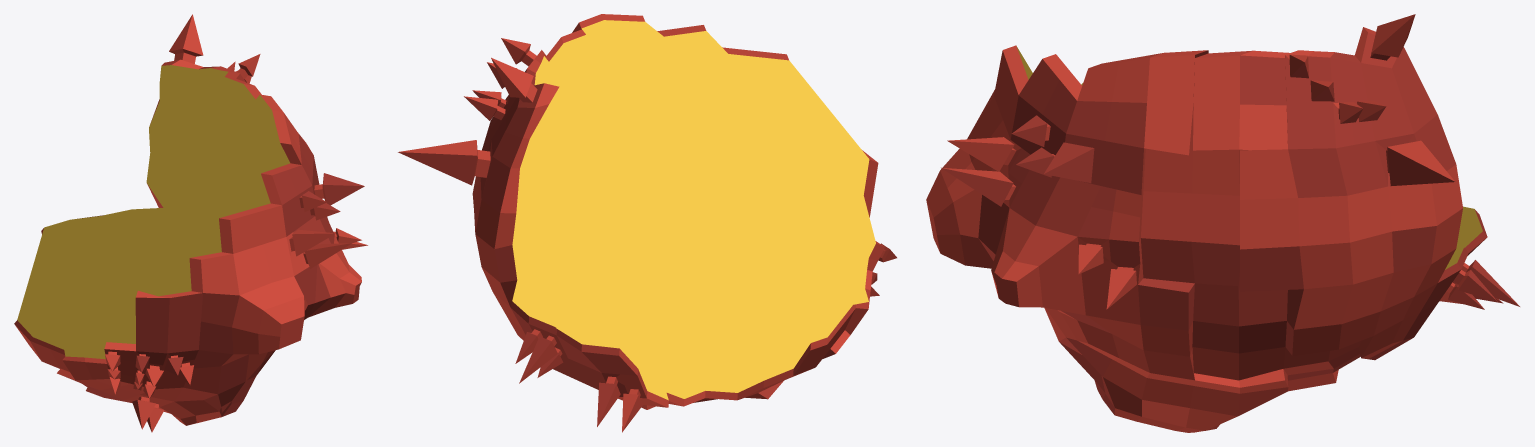
The model's file is Boom2.fbx.
3 renders of one model, left to right at view 1: azimuth 30°, elevation 25°; view 2: azimuth 150°, elevation 25°; view 3: azimuth 270°, elevation 25°, orthographic. The views are drawn at different scales.
Parts seen in each view (by area): view 1: Boom.001; view 2: Boom.001; view 3: Boom.001.
Part boxes in pixels (x1,y1,x2,y2): Boom.001: (14, 14, 367, 432); Boom.001: (398, 14, 896, 432); Boom.001: (926, 14, 1519, 432).
Bounding box in the file's own units: 161 × 170 × 196.
